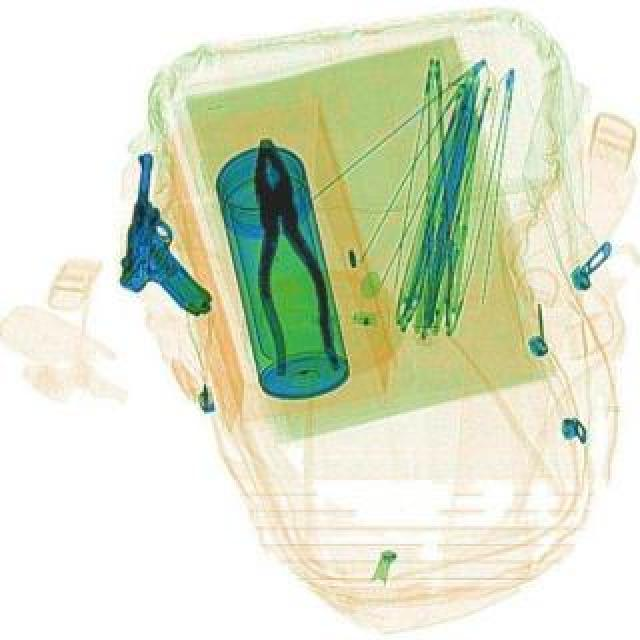gun: (112, 148, 236, 316)
wrench: (226, 130, 342, 380)
